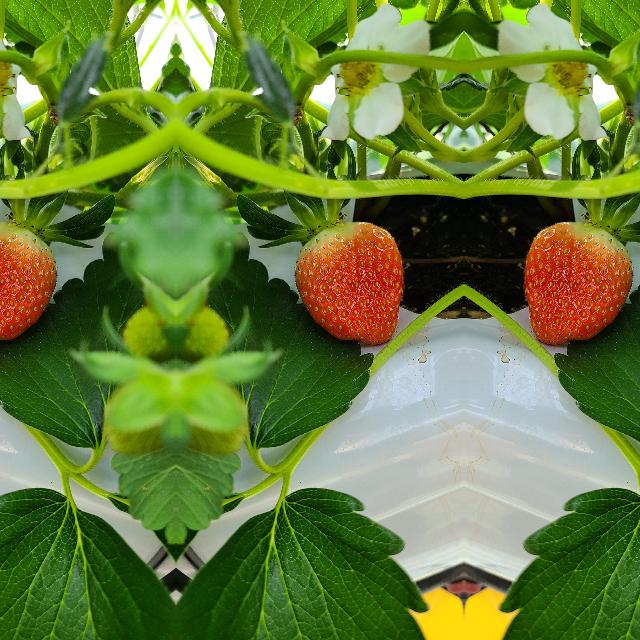Health_100: (522, 221, 634, 345), (292, 221, 403, 345), (0, 221, 57, 345)
